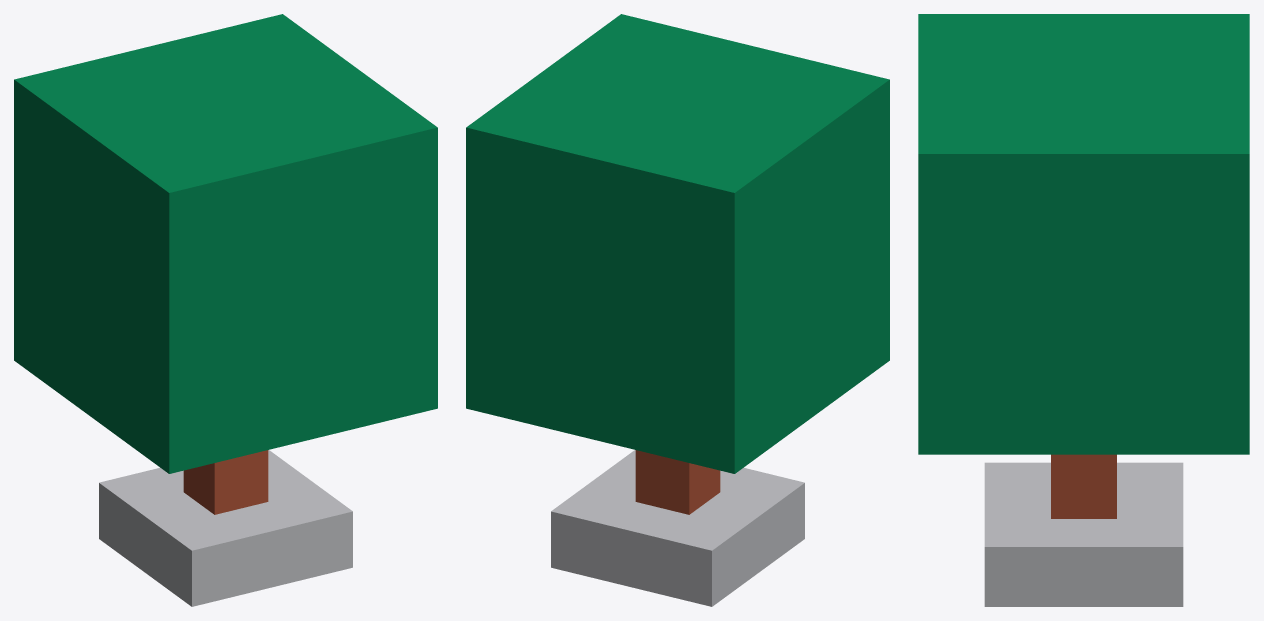
File: sidewalk_tree_c.obj
3 views of the same model, side by side, from view 1: azimuth 30°, elevation 25°; view 2: azimuth 150°, elevation 25°; view 3: azimuth 270°, elevation 25° (orthographic). The views are drawn at different scales.
Bounding box in the file's own units: 0.5 × 0.8 × 0.5.
1 material, 1 textured.
